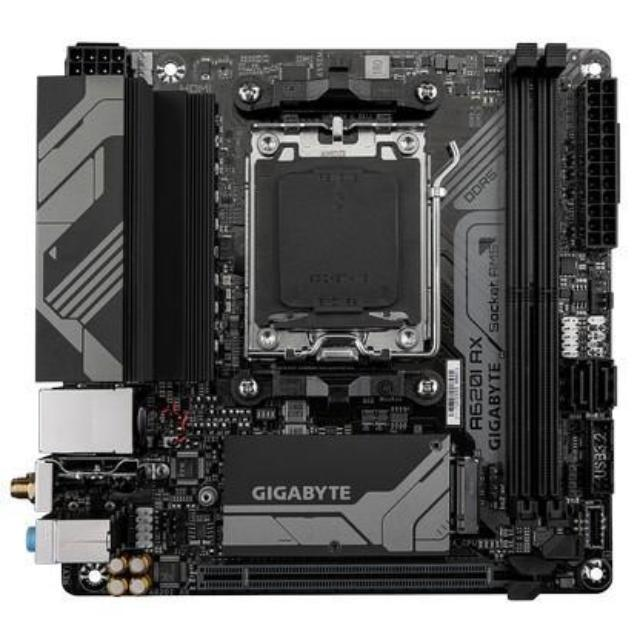Mainboard: (29, 38, 631, 610)
